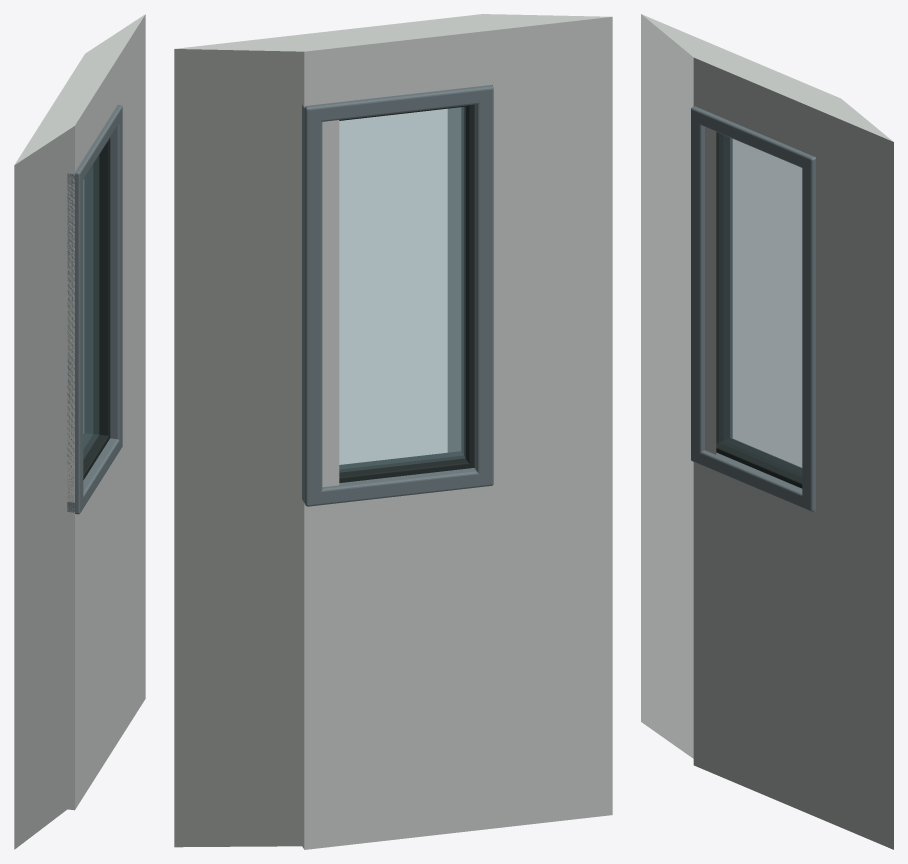
File: cabin_window_45_port.glb
3 views of the same model, side by side, from view 1: azimuth 30°, elevation 25°; view 2: azimuth 150°, elevation 25°; view 3: azimuth 270°, elevation 25° (orthographic). The views are drawn at different scales.
Parts seen in each view (by area): view 1: Wall left jamb.004, Wall right jamb.004, Wall below window.004, Rubber gasket upright.009, Wall header.004, Transparent glazing.004, Window frame upright.008, Window frame upright.009, Window frame horizontal.008, Window frame horizontal.009, Rubber gasket horizontal.008; view 2: Wall right jamb.004, Wall left jamb.004, Wall below window.004, Transparent glazing.004, Wall header.004, Window frame upright.009, Window frame upright.008, Rubber gasket upright.008, Window frame horizontal.008, Window frame horizontal.009, Rubber gasket horizontal.008; view 3: Wall right jamb.004, Wall left jamb.004, Wall below window.004, Transparent glazing.004, Wall header.004, Window frame upright.008, Window frame upright.009, Rubber gasket upright.008, Window frame horizontal.008, Window frame horizontal.009, Rubber gasket horizontal.008.
Part boxes in pixels (x1,y1,x2,y2): Wall left jamb.004: (14, 113, 82, 849); Wall right jamb.004: (77, 14, 145, 741); Wall below window.004: (67, 454, 118, 809); Rubber gasket upright.009: (84, 138, 110, 435); Wall header.004: (42, 54, 118, 172); Transparent glazing.004: (83, 156, 98, 458); Window frame upright.008: (67, 171, 83, 508); Window frame upright.009: (110, 108, 122, 450); Window frame horizontal.008: (67, 438, 119, 514); Window frame horizontal.009: (67, 105, 122, 184); Rubber gasket horizontal.008: (83, 433, 110, 479); Wall right jamb.004: (174, 35, 339, 849); Wall left jamb.004: (447, 14, 612, 828); Wall below window.004: (302, 485, 492, 849); Transparent glazing.004: (339, 107, 465, 472); Wall header.004: (294, 17, 492, 105); Window frame upright.009: (302, 105, 322, 506); Window frame upright.008: (474, 88, 493, 487); Rubber gasket upright.008: (461, 105, 474, 463); Window frame horizontal.008: (307, 468, 493, 505); Window frame horizontal.009: (305, 85, 493, 121); Rubber gasket horizontal.008: (339, 451, 474, 482); Wall right jamb.004: (816, 89, 893, 849); Wall left jamb.004: (641, 14, 718, 774); Wall below window.004: (693, 462, 815, 816); Transparent glazing.004: (719, 133, 802, 477); Wall header.004: (693, 47, 834, 157); Window frame upright.008: (691, 111, 732, 464); Window frame upright.009: (802, 156, 815, 511); Rubber gasket upright.008: (716, 132, 729, 443); Window frame horizontal.008: (691, 438, 814, 511); Window frame horizontal.009: (691, 106, 815, 170); Rubber gasket horizontal.008: (716, 438, 802, 488).
Bounding box in the file's own units: 0.8536 × 2.2 × 0.7121.
